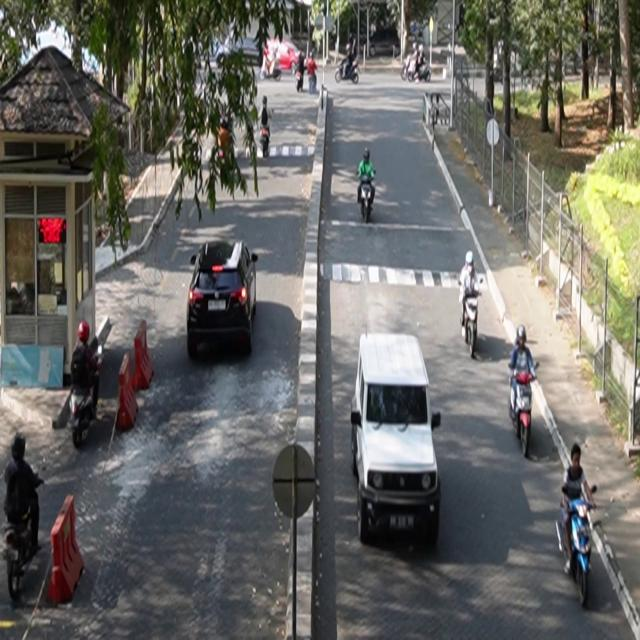car: (351, 333, 443, 548), (187, 240, 259, 359)
